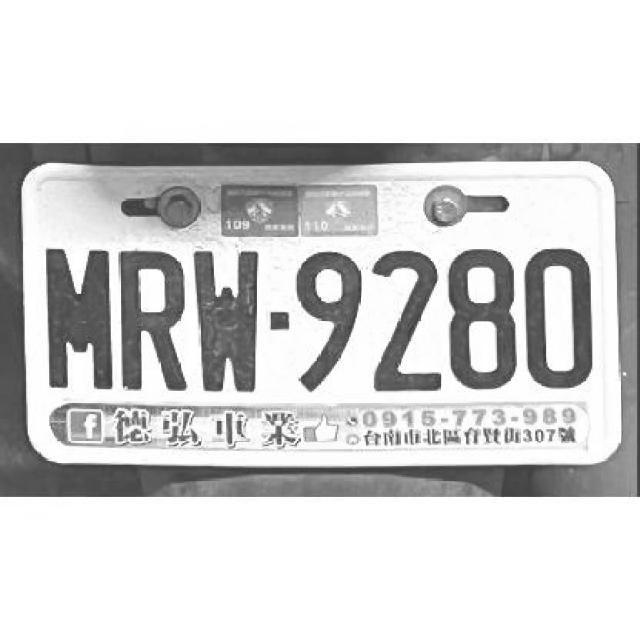-: (271, 311, 291, 332)
0: (521, 246, 594, 386)
2: (366, 243, 442, 392)
8: (446, 242, 520, 391)
9: (291, 243, 366, 391)
M: (44, 246, 116, 389)
R: (115, 243, 188, 391)
W: (192, 244, 266, 396)
